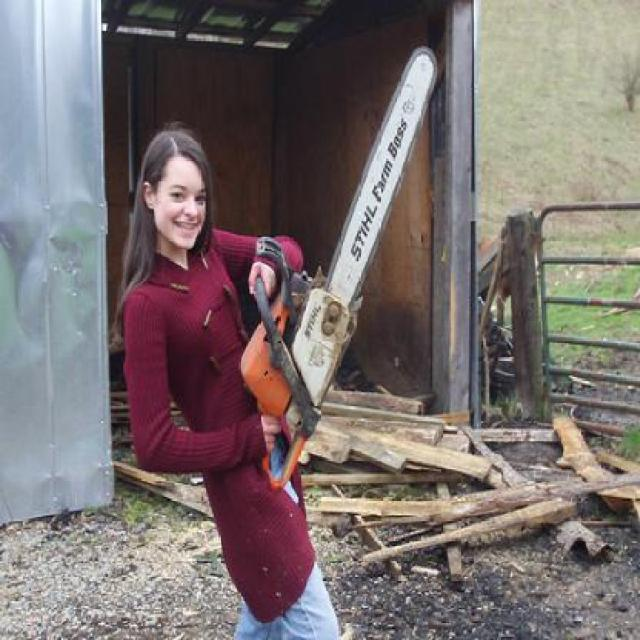Chainsaw: (235, 39, 443, 493)
